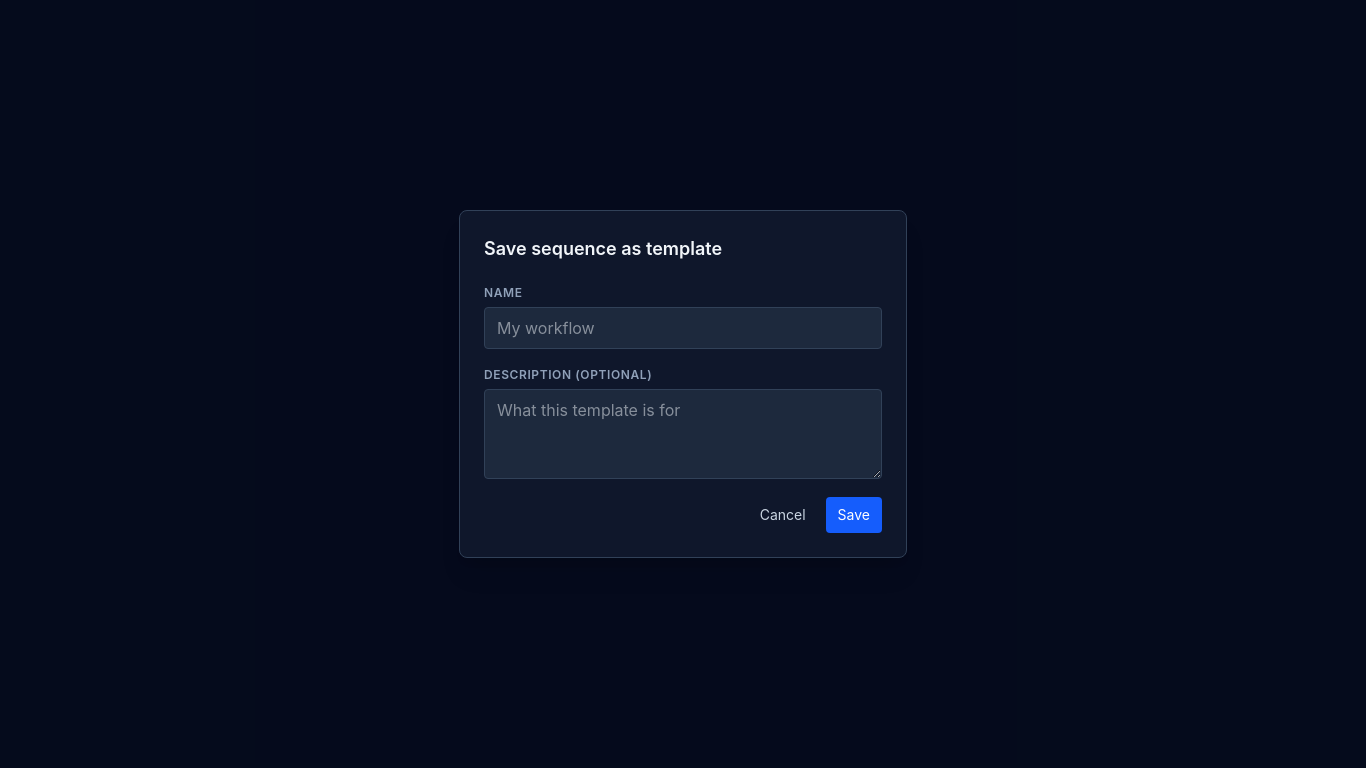
Scenario: SaveTemplateModal › shows the server error message and keeps form open on failure
The image size is (1366, 768).
In the field with placeholder "My workflow": coordinates (683, 328) [484,307,882,349], type "X"
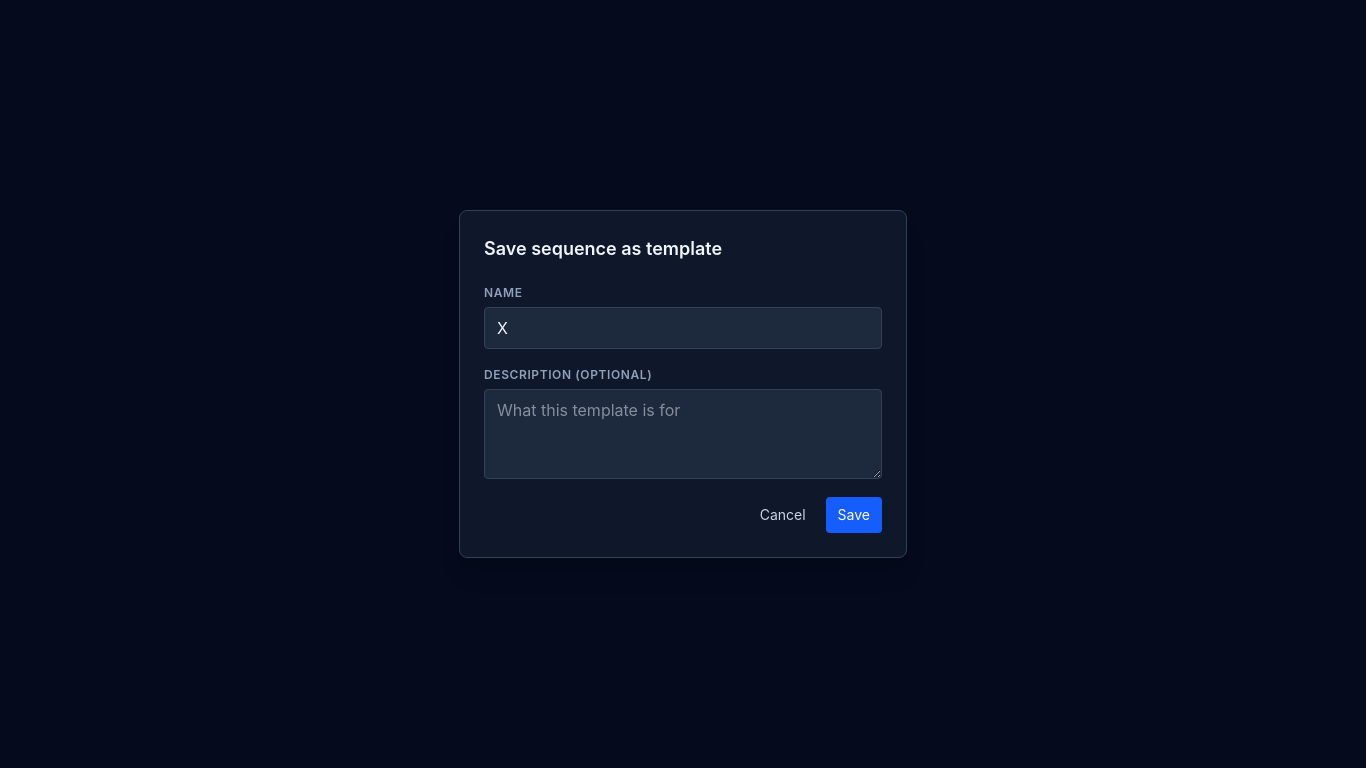
Click the button "Save": coordinates (854, 515) [826,497,882,533]
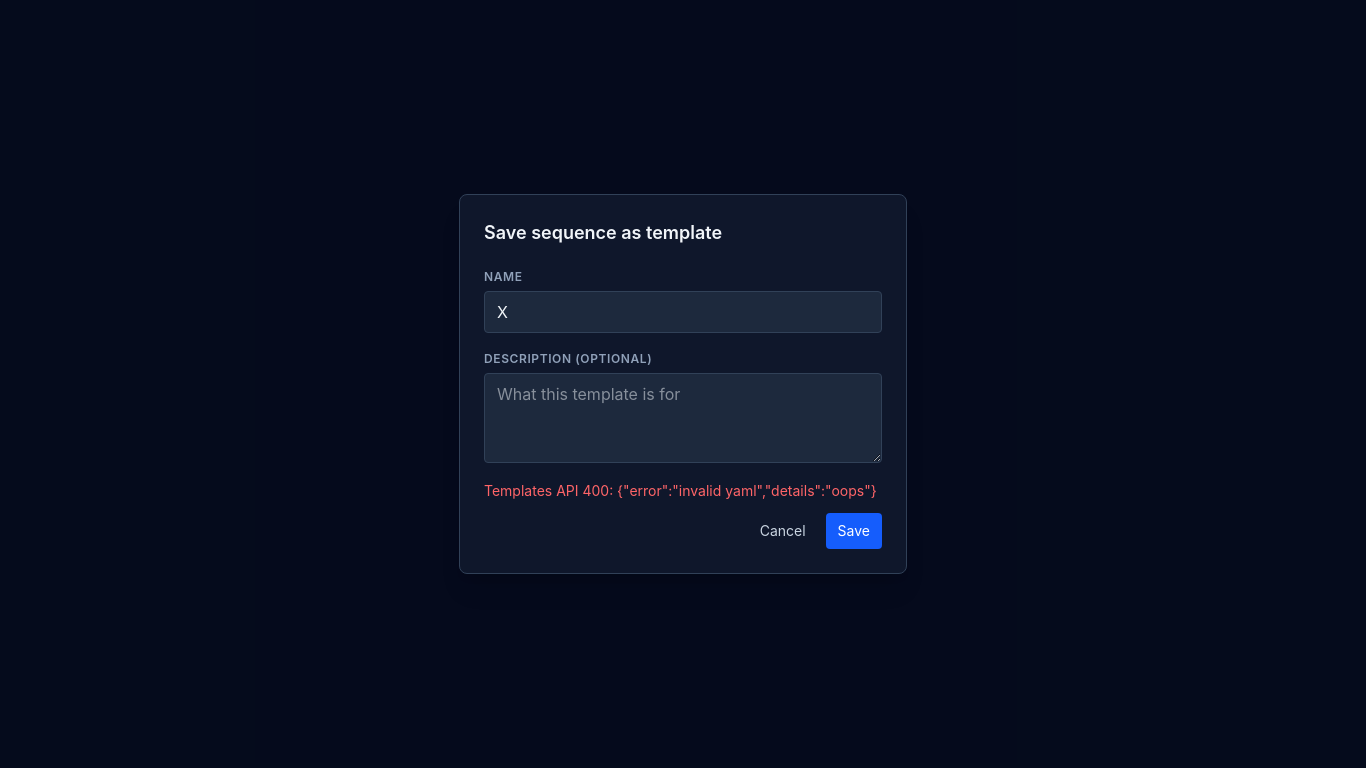
Result: the message "Templates API 400: {\"error\":\"invalid yaml\",\"details\":\"oops\"}" is shown at [484,481,882,501]
